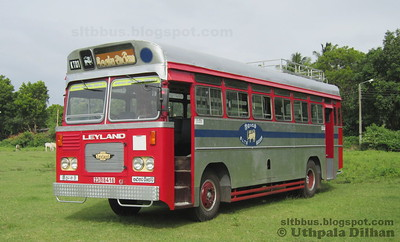bus: (52, 39, 345, 221)
